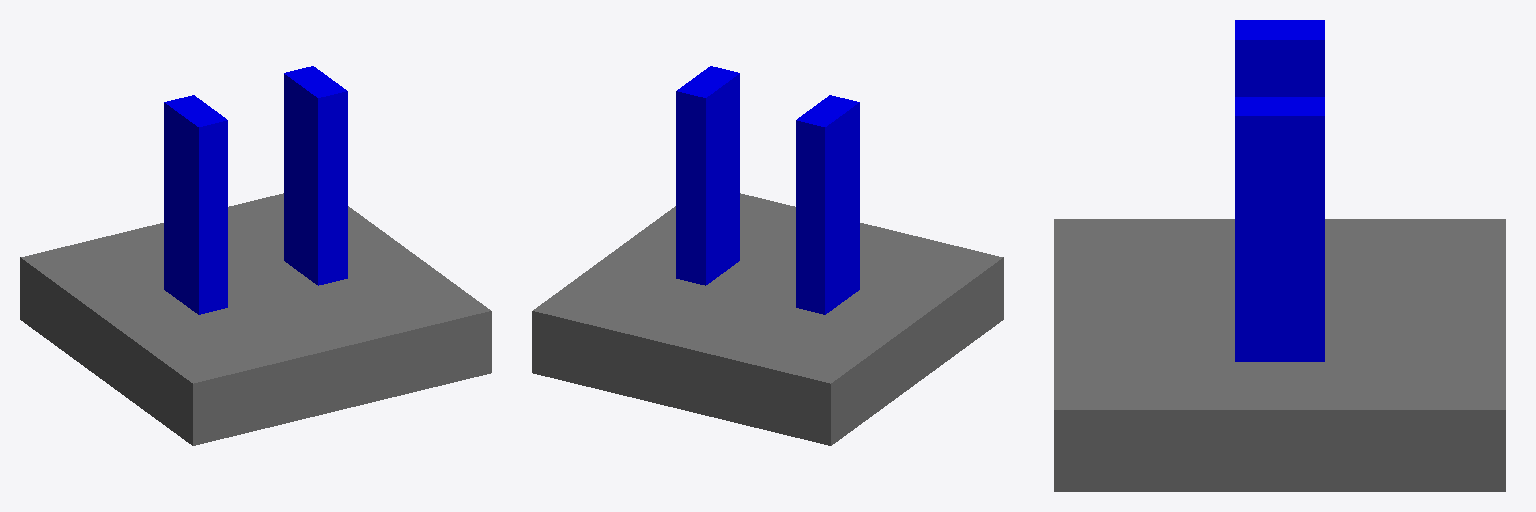
The robot description file, URDF, robot "gripper_with_mimic":
<?xml version="1.0"?>
<!-- Gripper with mimic joints for testing mimic joint handling -->
<robot name="gripper_with_mimic">
  <link name="base_link">
    <visual>
      <geometry>
        <box size="0.1 0.1 0.02"/>
      </geometry>
      <material name="gray">
        <color rgba="0.5 0.5 0.5 1"/>
      </material>
    </visual>
    <inertial>
      <mass value="0.5"/>
      <inertia ixx="0.001" ixy="0" ixz="0" iyy="0.001" iyz="0" izz="0.001"/>
    </inertial>
  </link>

  <link name="left_finger">
    <visual>
      <geometry>
        <box size="0.01 0.02 0.06"/>
      </geometry>
      <origin xyz="0 0 0.03" rpy="0 0 0"/>
      <material name="blue">
        <color rgba="0 0 1 1"/>
      </material>
    </visual>
    <inertial>
      <mass value="0.05"/>
      <origin xyz="0 0 0.03" rpy="0 0 0"/>
      <inertia ixx="0.0001" ixy="0" ixz="0" iyy="0.0001" iyz="0" izz="0.0001"/>
    </inertial>
  </link>

  <link name="right_finger">
    <visual>
      <geometry>
        <box size="0.01 0.02 0.06"/>
      </geometry>
      <origin xyz="0 0 0.03" rpy="0 0 0"/>
      <material name="blue">
        <color rgba="0 0 1 1"/>
      </material>
    </visual>
    <inertial>
      <mass value="0.05"/>
      <origin xyz="0 0 0.03" rpy="0 0 0"/>
      <inertia ixx="0.0001" ixy="0" ixz="0" iyy="0.0001" iyz="0" izz="0.0001"/>
    </inertial>
  </link>

  <!-- Main finger joint (actuated) -->
  <joint name="left_finger_joint" type="prismatic">
    <parent link="base_link"/>
    <child link="left_finger"/>
    <origin xyz="0.02 0 0.01" rpy="0 0 0"/>
    <axis xyz="1 0 0"/>
    <limit lower="0" upper="0.04" effort="10" velocity="0.5"/>
  </joint>

  <!-- Mimic joint (mirrors left finger) -->
  <joint name="right_finger_joint" type="prismatic">
    <parent link="base_link"/>
    <child link="right_finger"/>
    <origin xyz="-0.02 0 0.01" rpy="0 0 0"/>
    <axis xyz="1 0 0"/>
    <limit lower="-0.04" upper="0" effort="10" velocity="0.5"/>
    <mimic joint="left_finger_joint" multiplier="-1" offset="0"/>
  </joint>
</robot>

--- What the picture shows (computed from the rendered views, not written in the file) ---
The picture shows the robot from 3 angles, left to right: view 1: azimuth 30°, elevation 25°; view 2: azimuth 150°, elevation 25°; view 3: azimuth 270°, elevation 25°; orthographic projection.
Robot: gripper_with_mimic — 3 links, 2 joints (2 prismatic); root link base_link; default pose: every joint at zero.
Links seen in each view (by area): view 1: base_link, left_finger, right_finger; view 2: base_link, left_finger, right_finger; view 3: base_link, left_finger, right_finger.
Boxes of the visible links, x1,y1,x2,y2 form: base_link: (20, 193, 491, 445); left_finger: (284, 66, 347, 285); right_finger: (164, 95, 227, 314); base_link: (532, 193, 1003, 445); left_finger: (676, 66, 739, 285); right_finger: (796, 95, 859, 314); base_link: (1054, 219, 1505, 491); left_finger: (1235, 97, 1324, 361); right_finger: (1235, 20, 1324, 96).
Bounding box of the posed robot: 0.1 × 0.1 × 0.08 m (x, y, z).
Geometry: primitives only (box / cylinder / sphere), no mesh files.